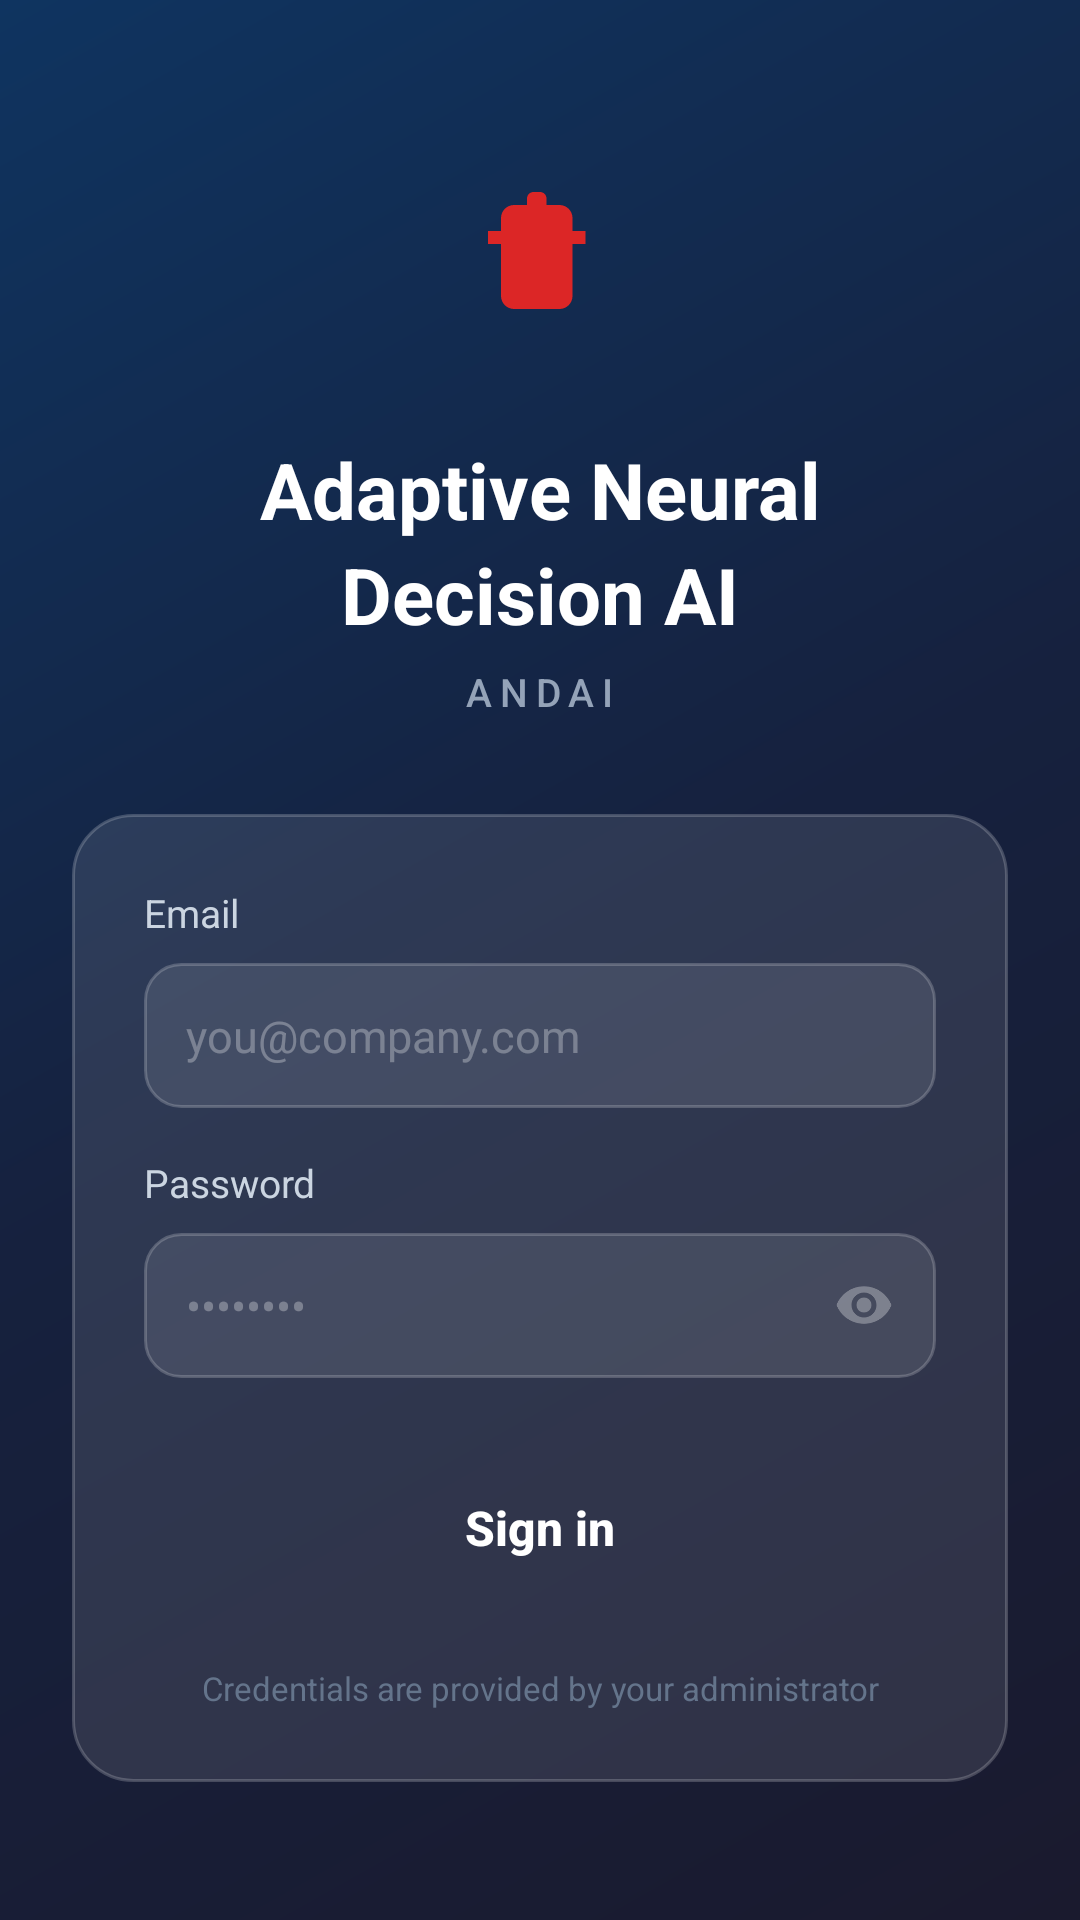

Named icons in this screenshot (1080w x 1920h) and their bounding boxes, (x1, y1, x2, y2):
Show or hide password: (837, 1286, 891, 1324)
